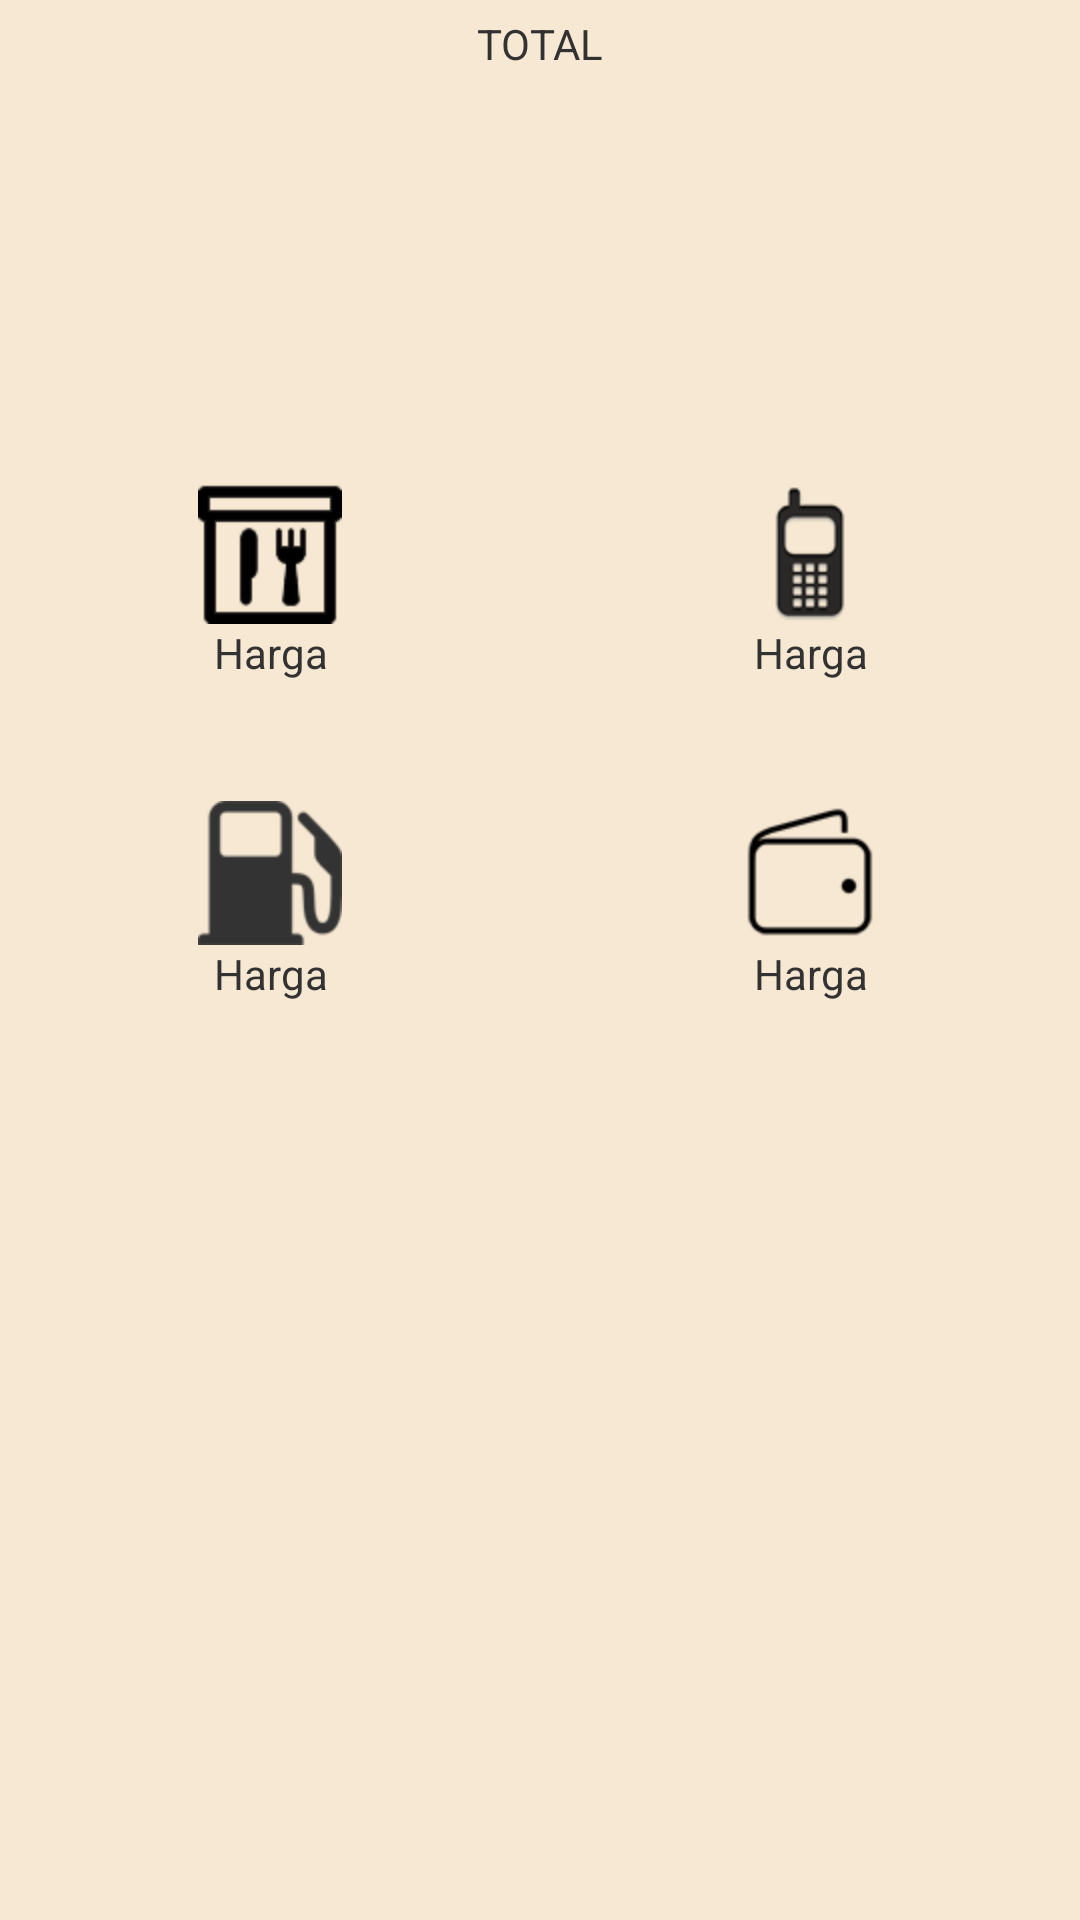

Where icons sit on this 1080px×1920px app screen, as bbox=(x1, y1, x2, y2):
food: bbox=(198, 485, 342, 624)
gas: bbox=(198, 801, 342, 945)
mobile: bbox=(776, 487, 845, 619)
wallet: bbox=(747, 808, 873, 936)
